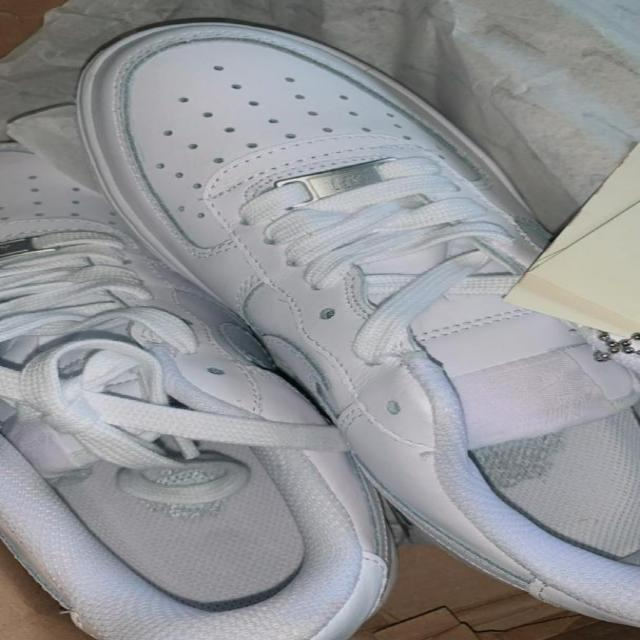nike fake air force: (68, 3, 640, 640)
